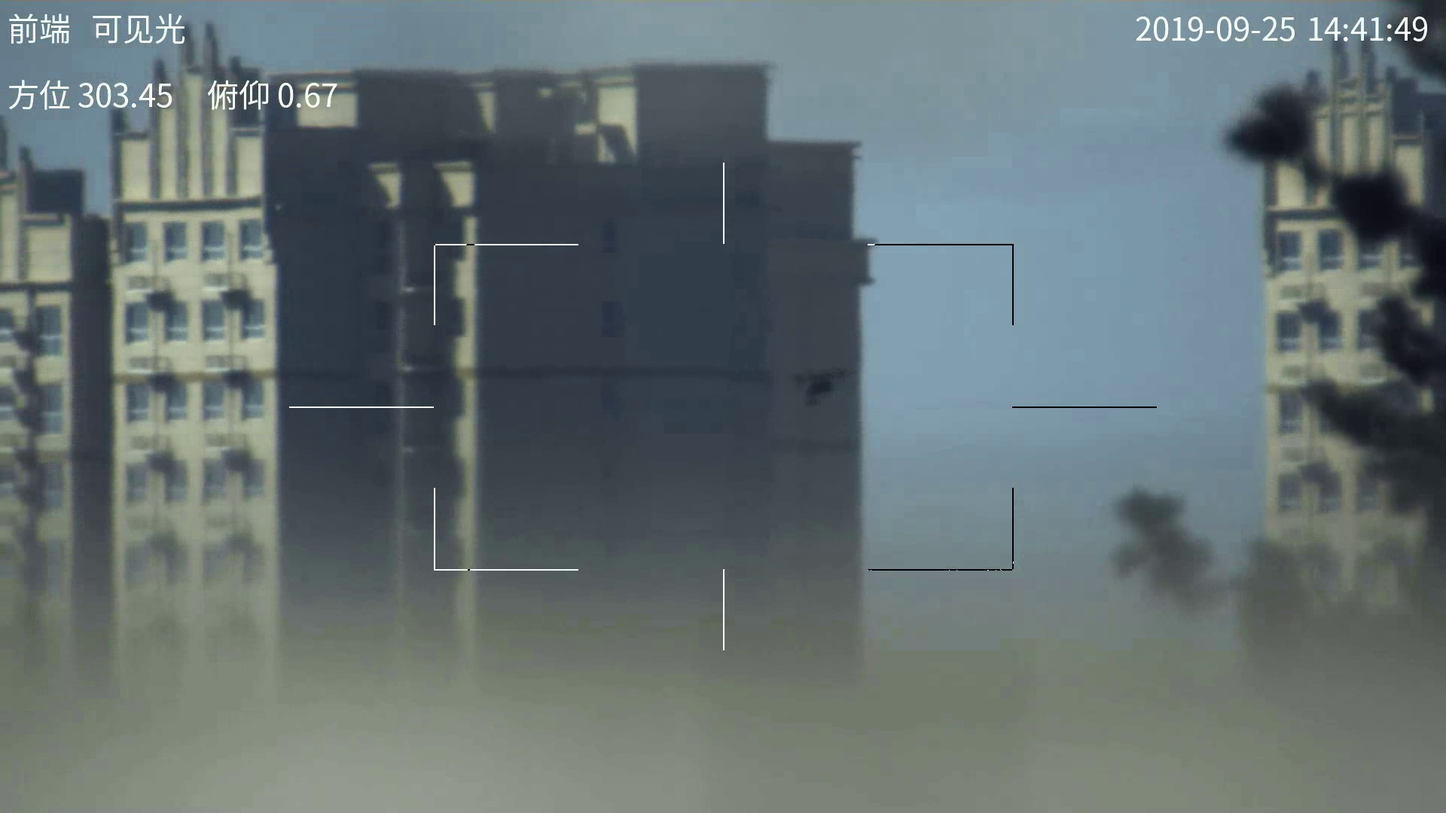drone_other: (807, 362, 874, 408)
